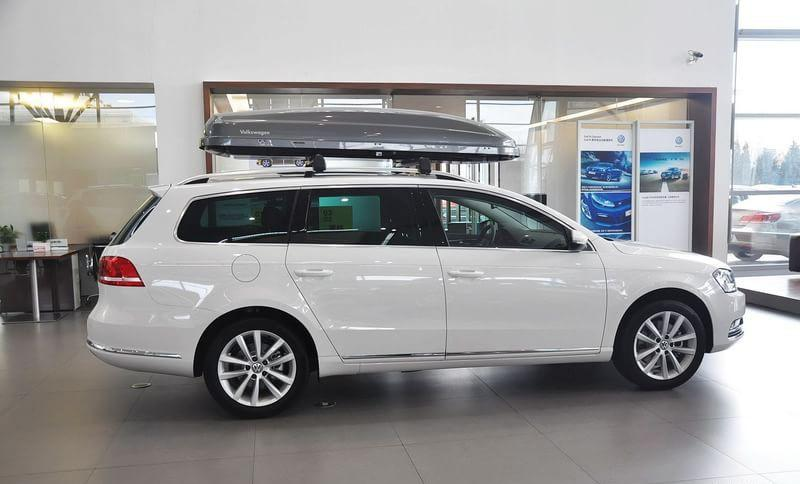Wagon: (84, 105, 747, 419)
